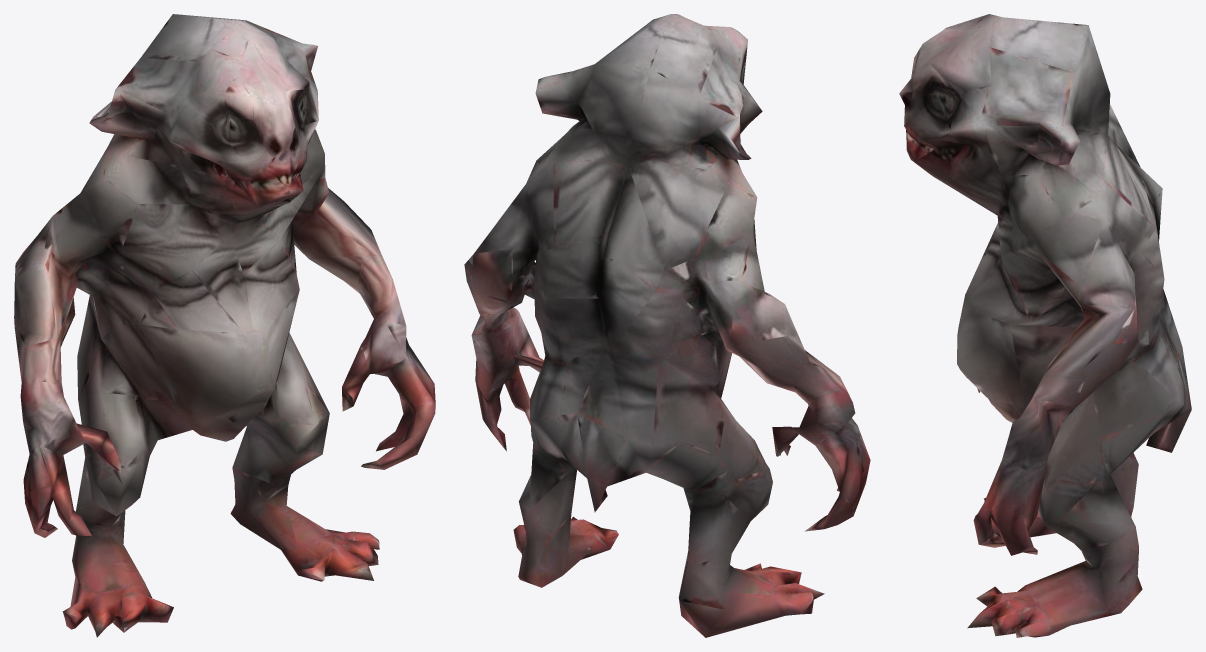
File: imp_opt.glb
3 views of the same model, side by side, from view 1: azimuth 30°, elevation 25°; view 2: azimuth 150°, elevation 25°; view 3: azimuth 270°, elevation 25° (orthographic). The views are drawn at different scales.
Bounding box in the file's own units: 1.43 × 1.99 × 0.9369.
1 material, 1 textured.
